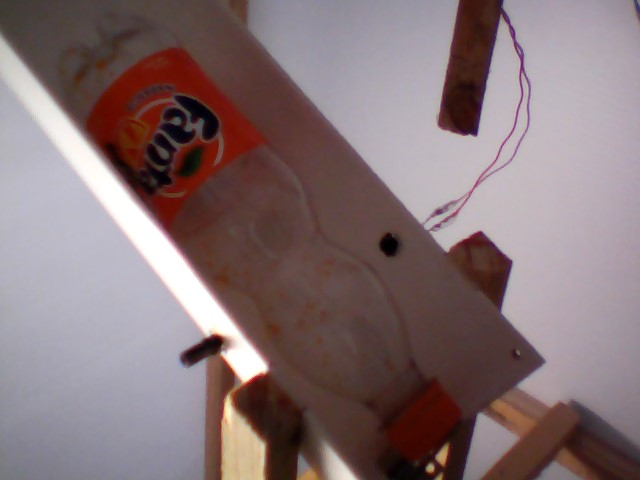plastico: (47, 5, 474, 459)
